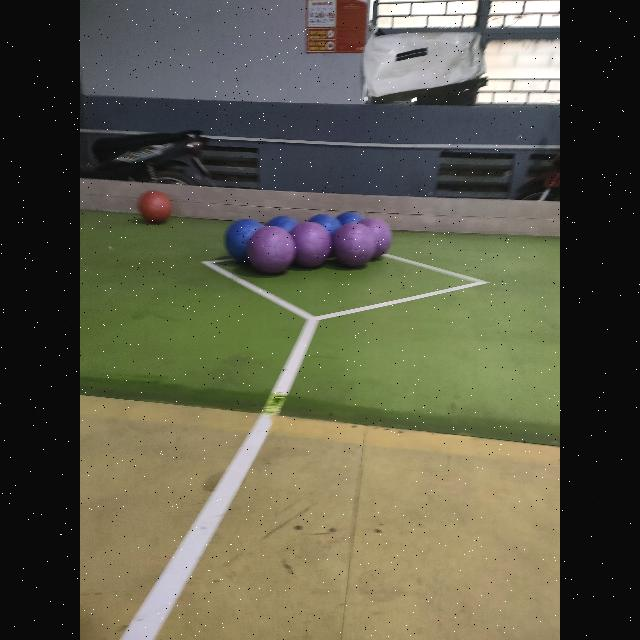B: (225, 219, 262, 261), (309, 214, 341, 236), (268, 216, 298, 232)
P: (247, 225, 296, 273), (332, 222, 376, 268), (288, 224, 330, 268), (357, 216, 393, 254)
R: (139, 192, 171, 222)
